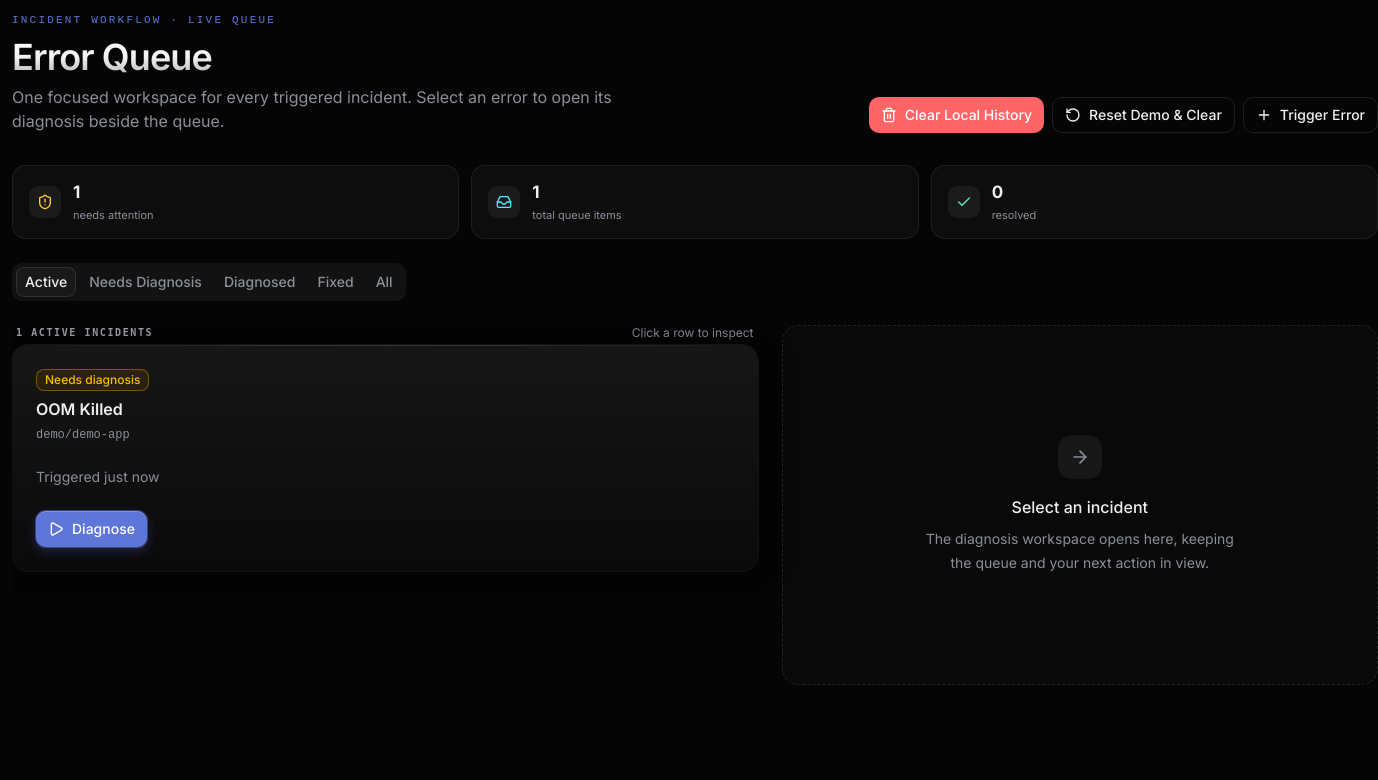
Test: ErrorsPage › makes a failed diagnosis retryable
This screenshot has width=1378, height=780.
Click the button "Diagnose".
click(91, 528)  # box [36,510,147,546]
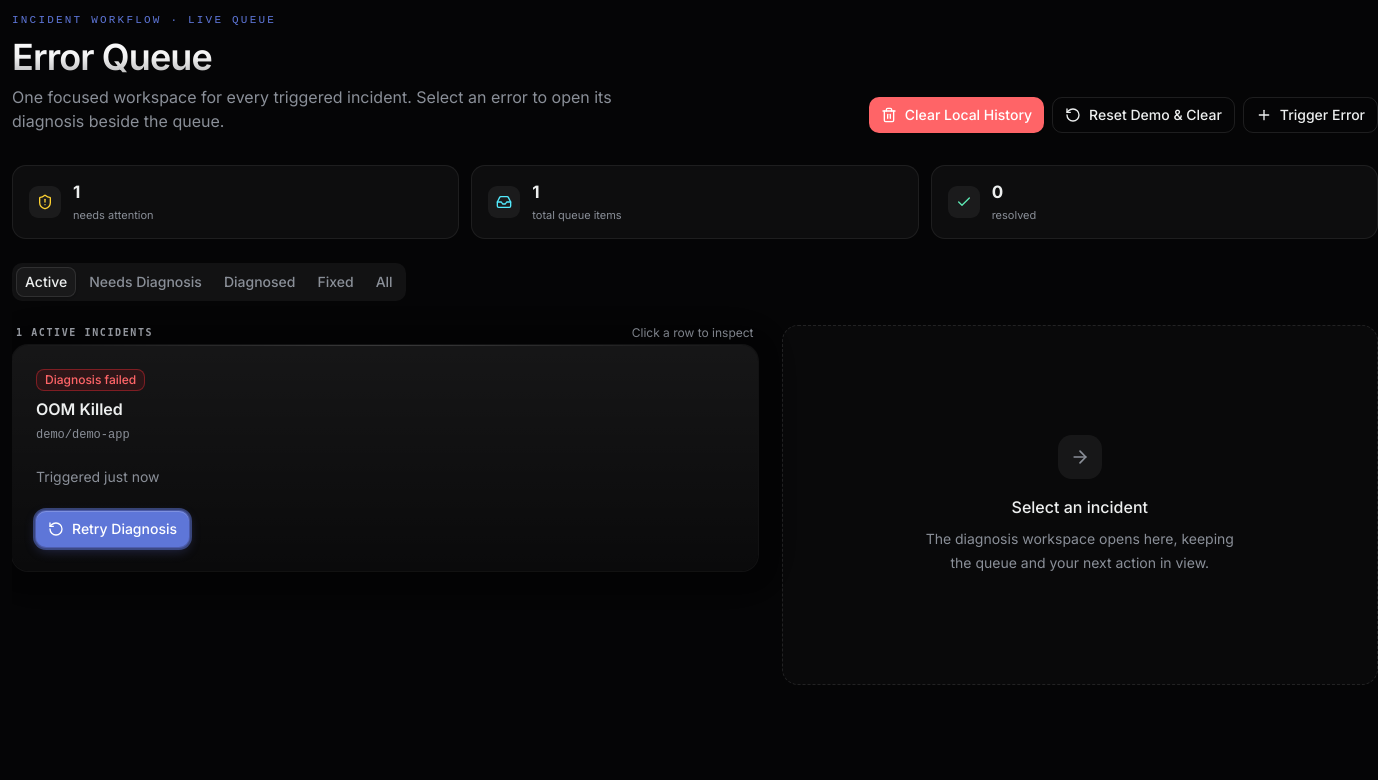
Now the text "Diagnosis failed" is shown, box [36,368,145,390]
Now the button "Retry Diagnosis" is shown, box [36,510,189,546]
